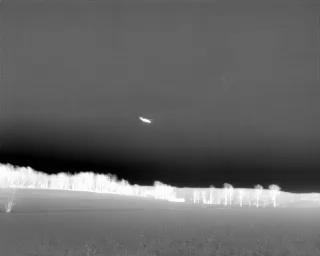DRONE: (134, 111, 156, 130)
